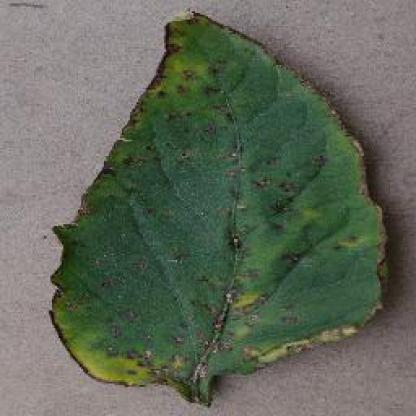bad leaf: (50, 225, 160, 393), (190, 278, 356, 370), (332, 110, 390, 314), (214, 103, 304, 223), (148, 18, 244, 100), (111, 102, 217, 169), (298, 78, 337, 118), (249, 40, 286, 80)
